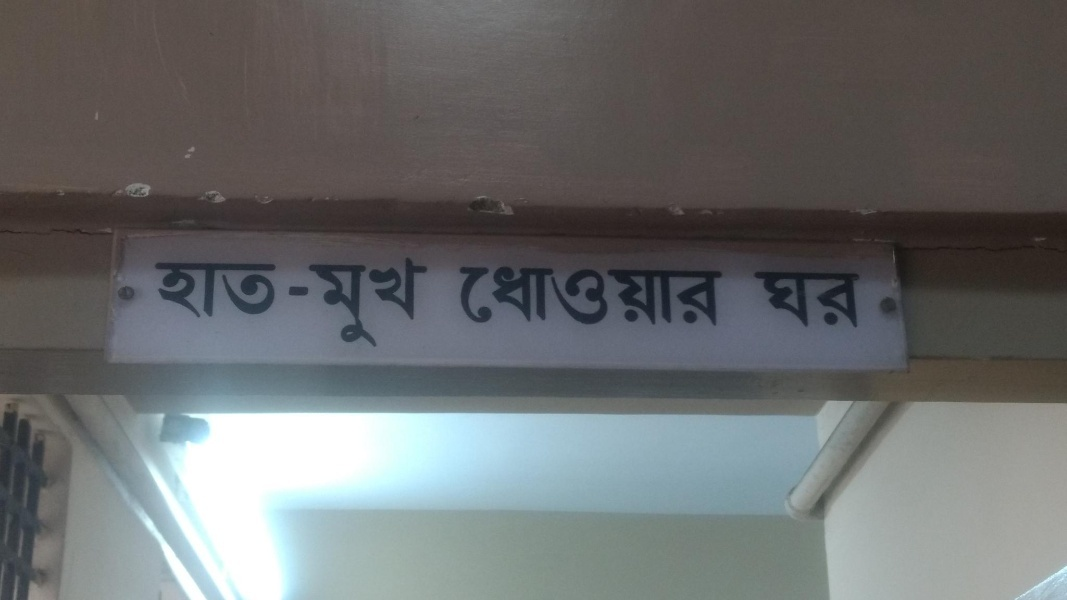text: (321, 254, 336, 349), (337, 254, 352, 349), (353, 254, 368, 349), (369, 254, 384, 349), (385, 254, 400, 349), (401, 254, 416, 349), (417, 254, 432, 349), (309, 254, 320, 349), (465, 265, 480, 331), (481, 265, 496, 331), (497, 265, 512, 331), (513, 265, 528, 331), (529, 265, 544, 331), (545, 265, 560, 331), (561, 265, 576, 331), (577, 265, 592, 331), (593, 265, 608, 331), (609, 265, 624, 331), (625, 265, 640, 331), (641, 265, 656, 331), (657, 265, 672, 331), (673, 265, 688, 331), (689, 265, 704, 331), (705, 265, 720, 331), (769, 269, 784, 329), (785, 269, 800, 329), (801, 269, 816, 329), (817, 269, 832, 329), (833, 269, 848, 329), (161, 261, 176, 318), (177, 261, 192, 318), (193, 261, 208, 318), (209, 261, 224, 318), (225, 261, 240, 318), (241, 261, 256, 318), (257, 261, 272, 318), (273, 261, 288, 318), (289, 261, 304, 318), (754, 269, 768, 329), (849, 269, 860, 329), (305, 261, 312, 318), (721, 265, 727, 331), (433, 254, 437, 349), (459, 265, 464, 331), (158, 261, 160, 318)
